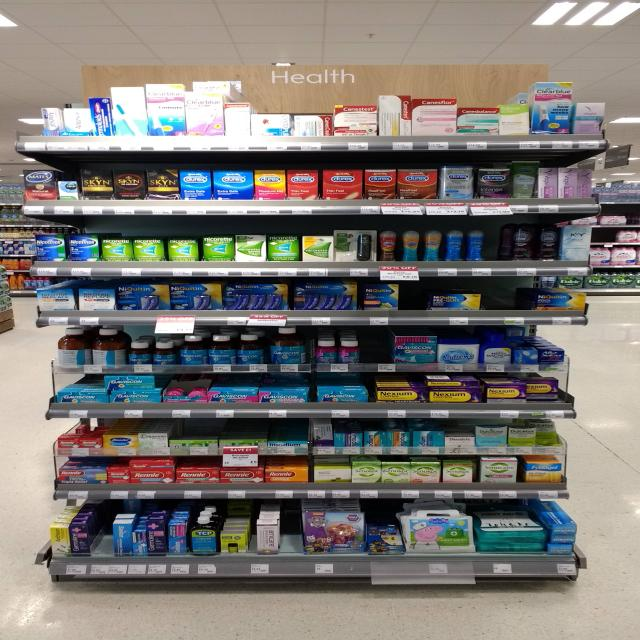void: (485, 279, 528, 326), (283, 512, 302, 576), (402, 281, 425, 326), (366, 334, 386, 376)
